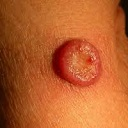Melanoma: (54, 38, 107, 90)
